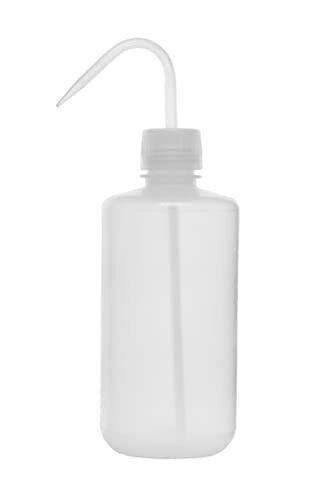LDPE: (0, 4, 317, 500)
